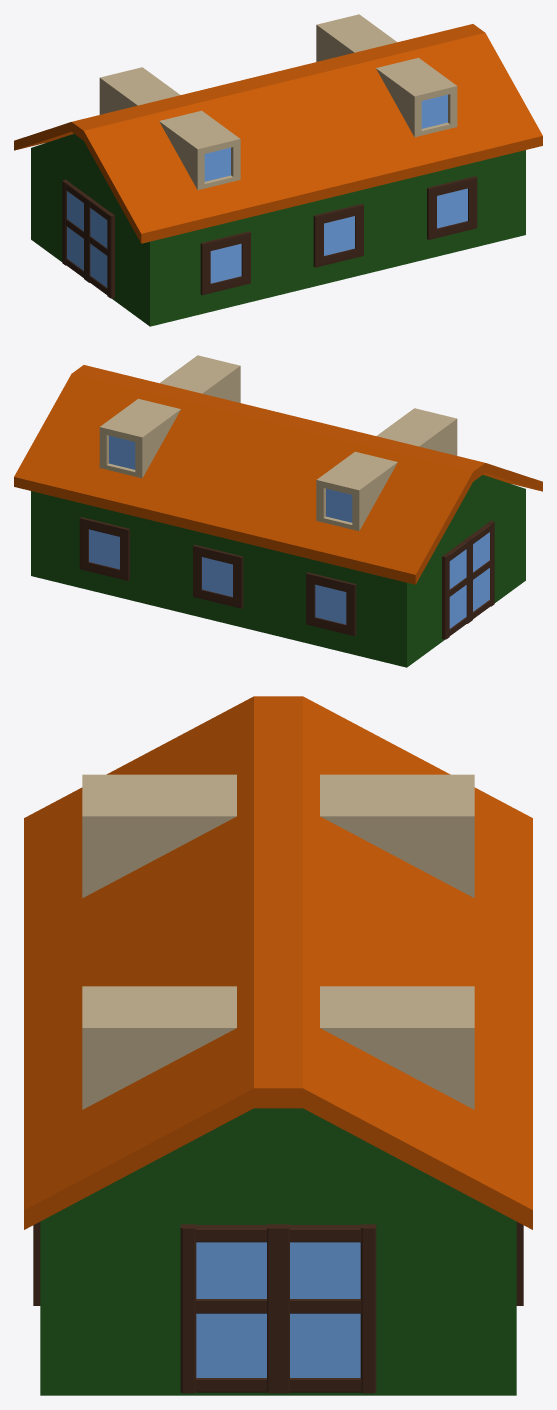
File: Quarter1.glb
3 views of the same model, one above another, from view 1: azimuth 30°, elevation 25°; view 2: azimuth 150°, elevation 25°; view 3: azimuth 270°, elevation 25° (orthographic). The views are drawn at different scales.
Parts seen in each view (by area): view 1: Quarter; view 2: Quarter; view 3: Quarter.
Part boxes in pixels (bbox=[...]): Quarter: bbox=[14, 14, 542, 326]; Quarter: bbox=[14, 355, 542, 667]; Quarter: bbox=[24, 696, 532, 1395].
Size of the model in its own units: 19.77 by 7.52 by 10.85.
